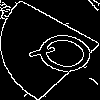Q: (24, 25, 100, 86)
